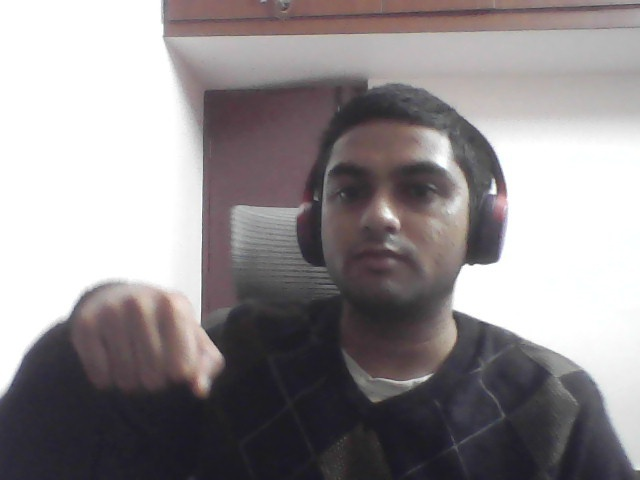Yes: (42, 266, 240, 420)
